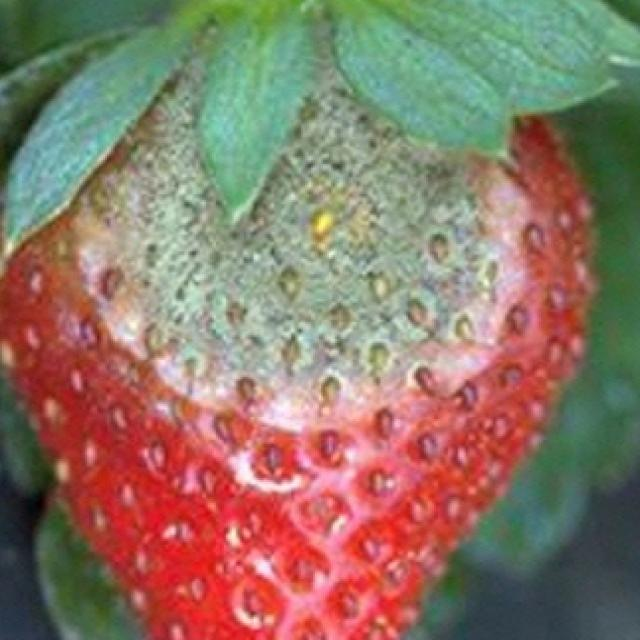Gray Mold: (55, 17, 560, 456)
